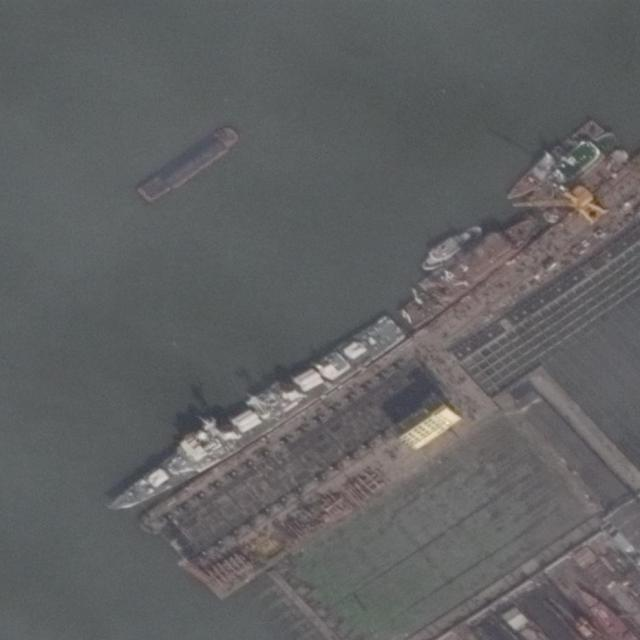Cargo: (133, 121, 244, 208)
Destroyer: (105, 310, 406, 524)
Other Warship: (398, 202, 546, 330), (508, 118, 603, 205), (418, 217, 485, 279), (542, 140, 601, 195)
